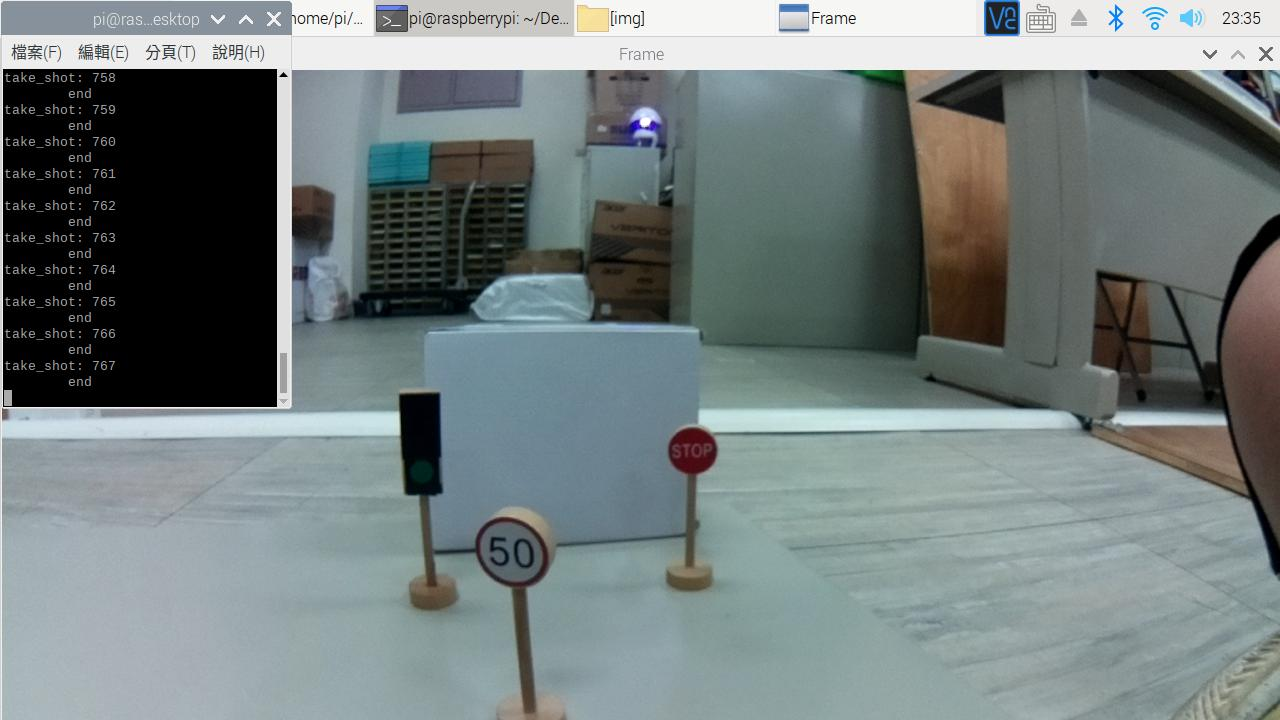Green: (374, 378, 456, 508)
Speed50: (461, 511, 565, 591)
Stop: (663, 417, 721, 486)
